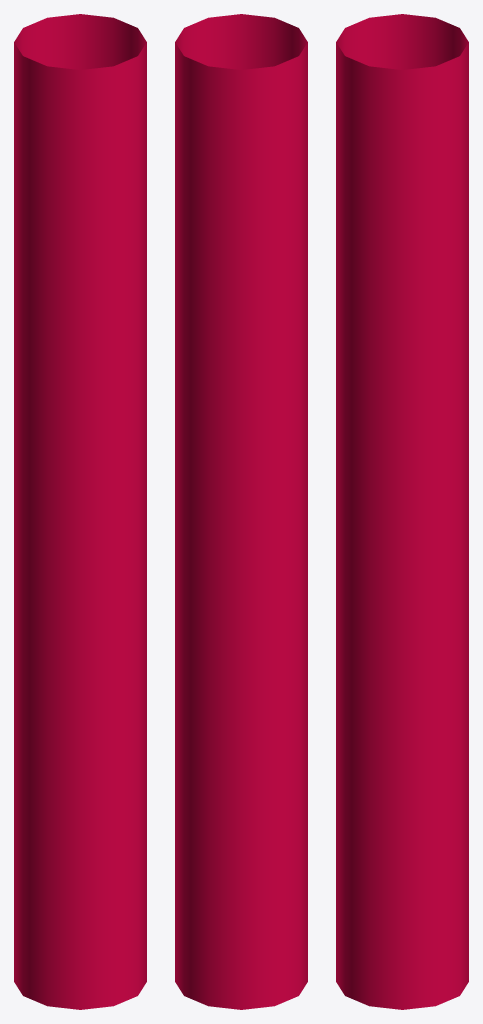
Rendered from pipe_l.FBX.
3 views of the same model, side by side, from view 1: azimuth 30°, elevation 25°; view 2: azimuth 210°, elevation 25°; view 3: azimuth 330°, elevation 25° (orthographic).
Parts seen in each view (by area): view 1: pipe_l; view 2: pipe_l; view 3: pipe_l.
Boxes of the visible parts, x1,y1,x2,y2 form: pipe_l: (14, 14, 146, 1009); pipe_l: (175, 14, 307, 1009); pipe_l: (336, 14, 468, 1009).
Size of the model in its own units: 6.4 by 50 by 6.4.
